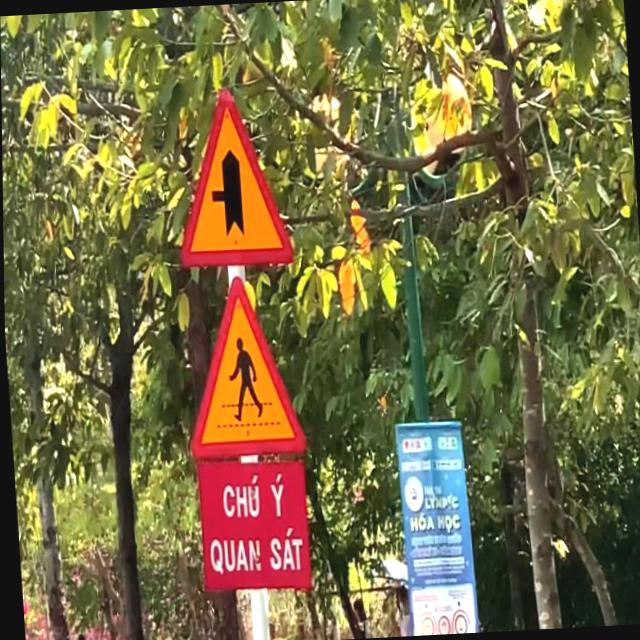Giao nhau voi duong khong uu tien ben trai: (161, 72, 299, 276)
Nguoi di bo cat ngang: (171, 259, 310, 466)
